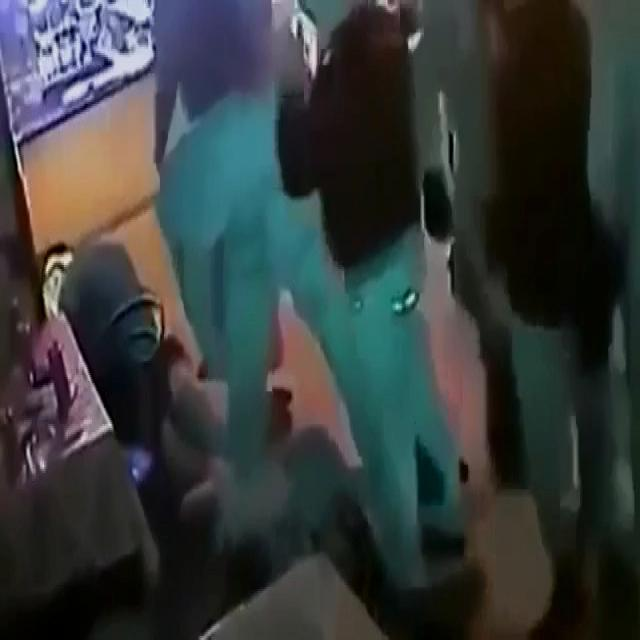fight: (72, 27, 318, 584)
